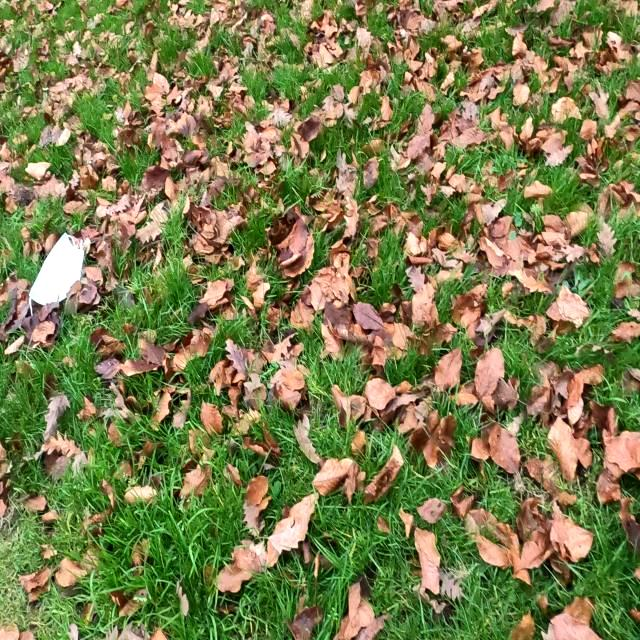Mask: (27, 230, 85, 318)
